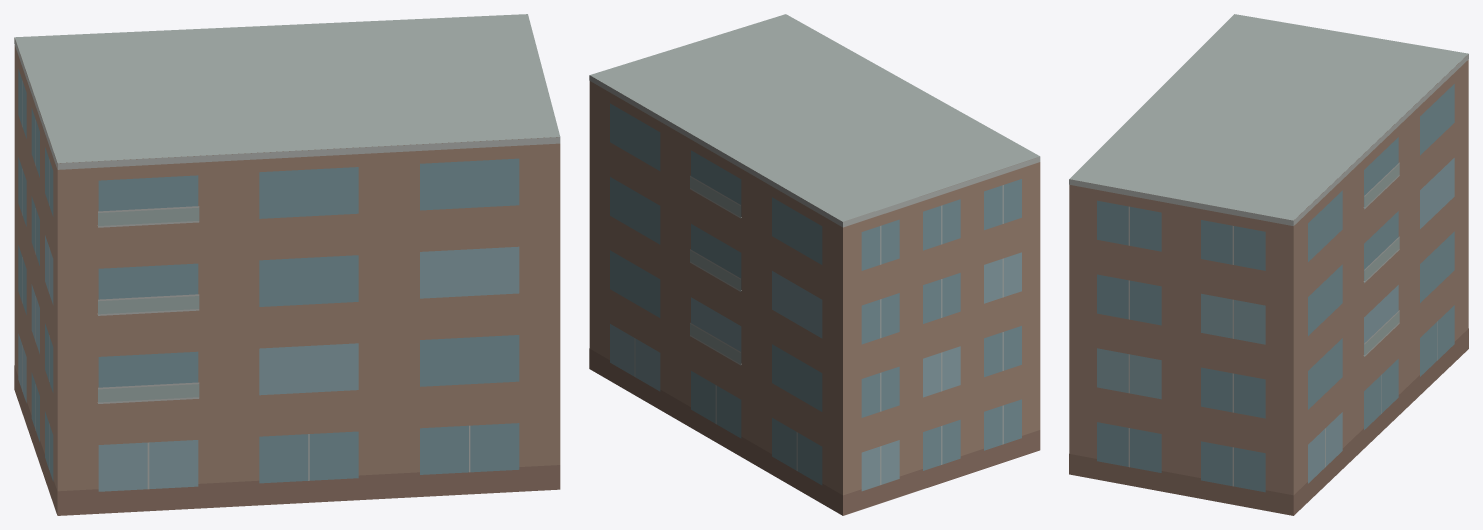
Rendered from survey-upis-32626310.glb.
3 views of the same model, side by side, from view 1: azimuth 30°, elevation 25°; view 2: azimuth 150°, elevation 25°; view 3: azimuth 270°, elevation 25° (orthographic). The views are drawn at different scales.
Visible parts, largest first — view 1: survey-upis-32626310.tmp; view 2: survey-upis-32626310.tmp; view 3: survey-upis-32626310.tmp.
Part boxes in pixels (bbox=[...]): survey-upis-32626310.tmp: bbox=[14, 14, 560, 515]; survey-upis-32626310.tmp: bbox=[589, 14, 1040, 515]; survey-upis-32626310.tmp: bbox=[1069, 14, 1468, 515].
Bounding box in the file's own units: 19.37 × 12.9 × 15.83.
